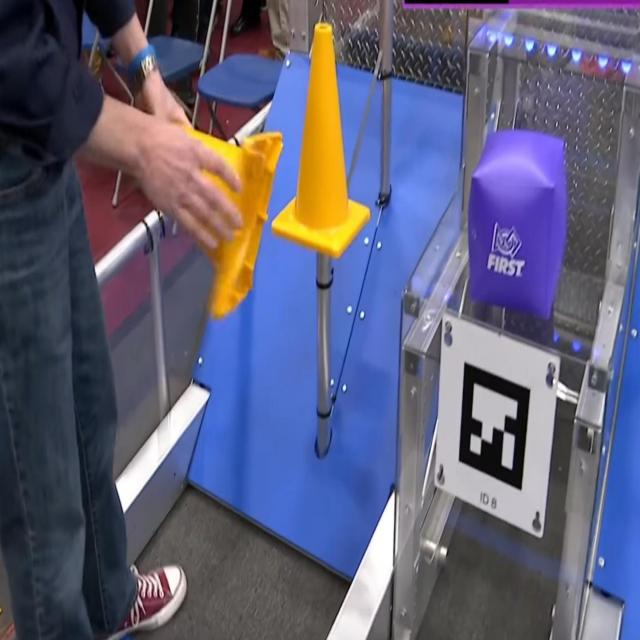frc_cone: (272, 25, 373, 259), (182, 125, 286, 324)
frc_cube: (469, 130, 567, 316)
